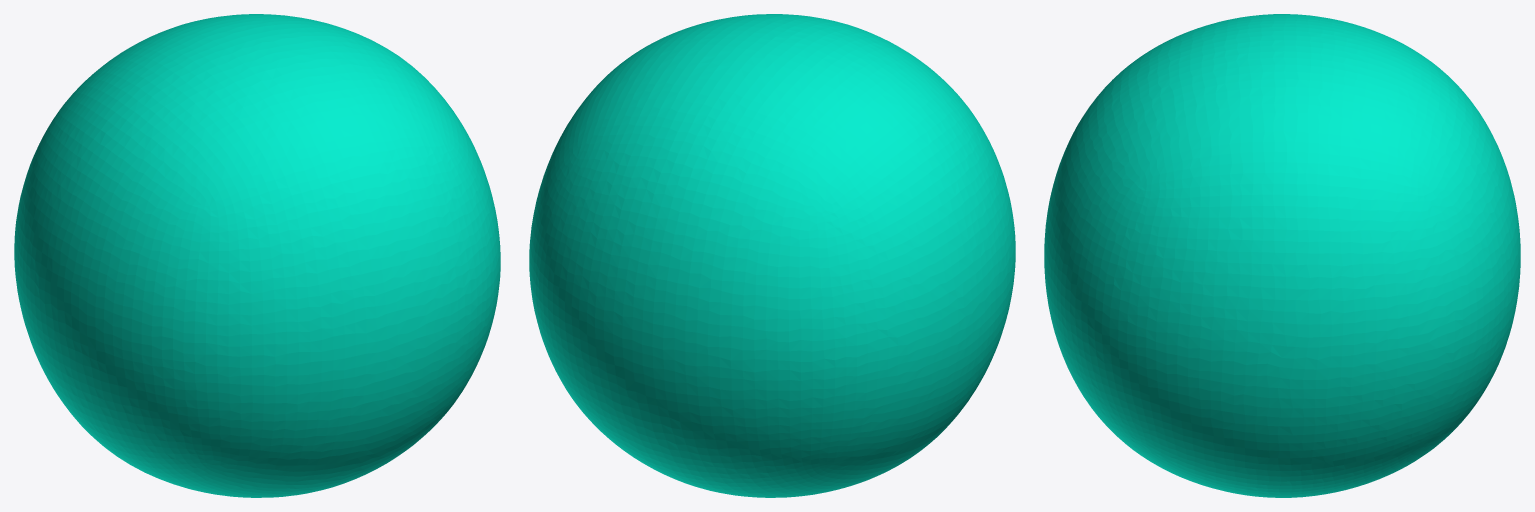
Rendered from Sea42.fbx.
3 views of the same model, side by side, from view 1: azimuth 30°, elevation 25°; view 2: azimuth 150°, elevation 25°; view 3: azimuth 270°, elevation 25° (orthographic).
Visible parts, largest first — view 1: pCube1; view 2: pCube1; view 3: pCube1.
Boxes of the visible parts, x1,y1,x2,y2 form: pCube1: [14, 14, 500, 497]; pCube1: [529, 14, 1015, 497]; pCube1: [1044, 14, 1520, 497].
Size of the model in its own units: 40.33 by 40.33 by 40.33.
